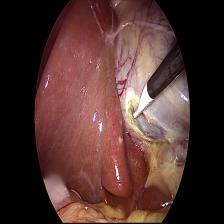Hook: (130, 83, 153, 121)
